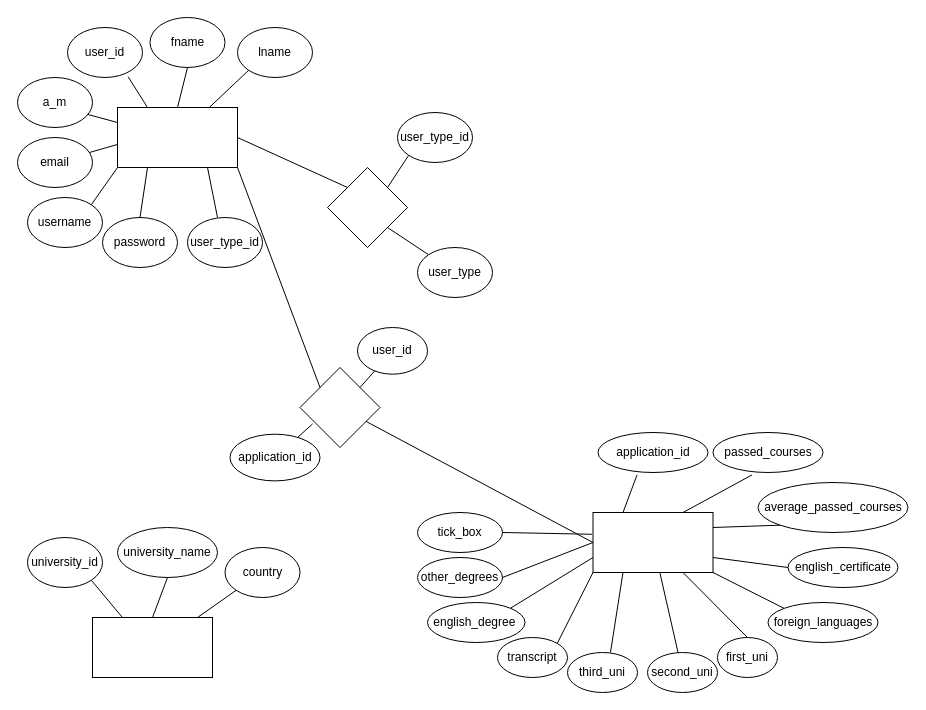
This 926x710 diagram has some shape labels left out. The centre of each missing label's shape, as x and y in pixels:
"Applications" goes at point (652, 542).
"fill" goes at point (339, 407).
"Universities" goes at point (152, 647).
"User_t" goes at point (367, 207).
"Users" goes at point (177, 137).
